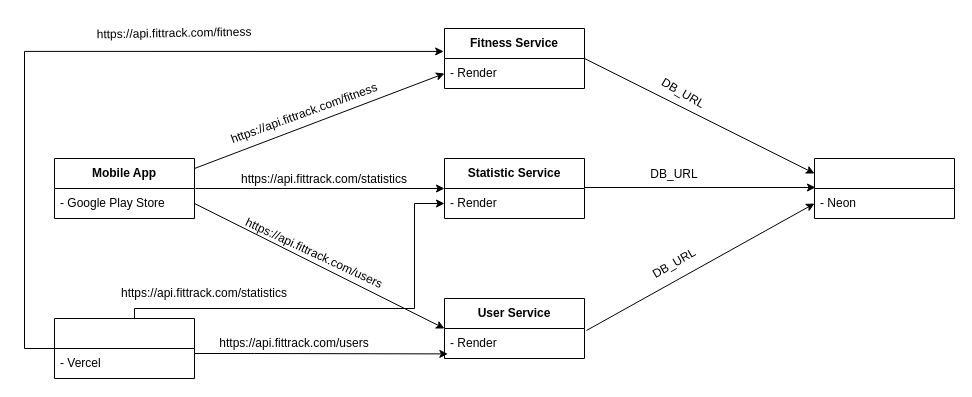
This 972x397 diagram has some shape labels left out. Here are the shapes that lost their labels. From the top down, the box of each, then its label:
(814, 158, 954, 218): PostgresSQL DB
(54, 318, 194, 378): Website
